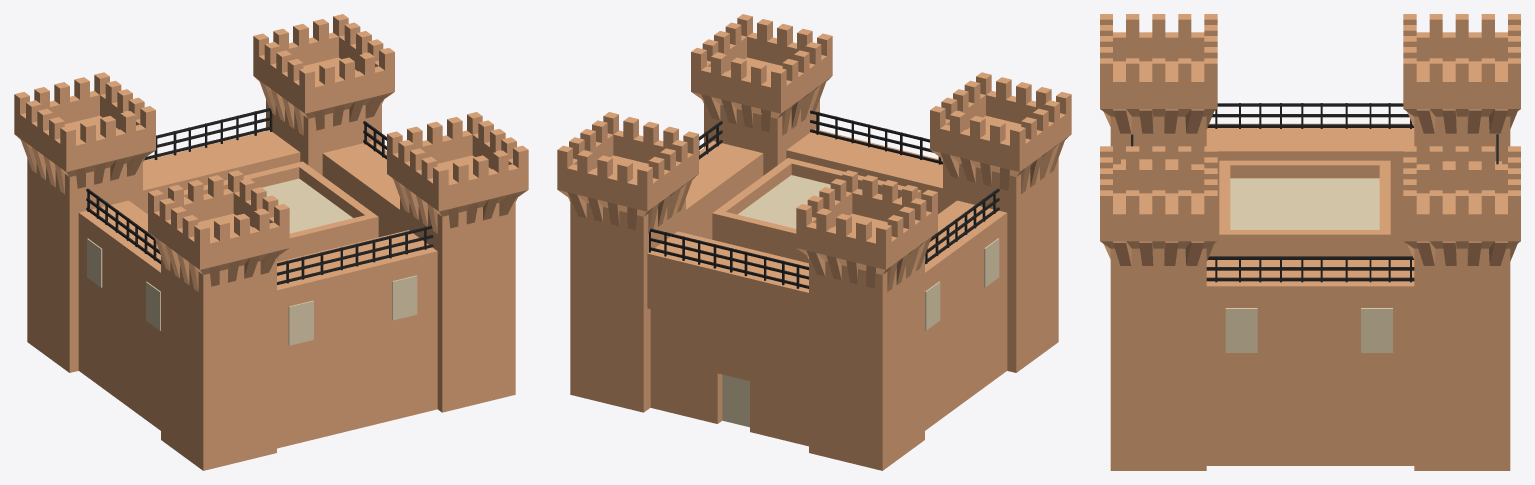
The picture shows the model from 3 angles, left to right: view 1: azimuth 30°, elevation 25°; view 2: azimuth 150°, elevation 25°; view 3: azimuth 270°, elevation 25°; orthographic projection. The views are drawn at different scales.
Visible parts, largest first — view 1: Box112, Box114, Box138, Box113, Box111, Box124, Box133, Box139, Box081, Box135, Box126, Box118 (+4 smaller); view 2: Box113, Box111, Box139, Box112, Box114, Box124, Box133, Box138, Box081, Box118, Box122, Box077 (+2 smaller); view 3: Box081, Box114, Box111, Box133, Box113, Box112, Box124, Box123, Box134, Box110, Box092, Box083 (+3 smaller).
Part boxes in pixels (x1=…): Box112: x1=148, y1=170, x2=289, y2=470; Box114: x1=387, y1=112, x2=528, y2=412; Box138: x1=277, y1=230, x2=437, y2=448; Box113: x1=14, y1=72, x2=155, y2=372; Box111: x1=253, y1=14, x2=394, y2=175; Box124: x1=78, y1=200, x2=160, y2=430; Box133: x1=184, y1=161, x2=378, y2=261; Box139: x1=143, y1=130, x2=300, y2=213; Box081: x1=322, y1=141, x2=399, y2=237; Box135: x1=392, y1=275, x2=417, y2=320; Box126: x1=288, y1=300, x2=313, y2=345; Box118: x1=87, y1=238, x2=102, y2=287; Box113: x1=796, y1=170, x2=937, y2=470; Box111: x1=557, y1=112, x2=698, y2=412; Box139: x1=647, y1=231, x2=808, y2=446; Box112: x1=930, y1=72, x2=1071, y2=372; Box114: x1=691, y1=14, x2=832, y2=175; Box124: x1=925, y1=200, x2=1007, y2=430; Box133: x1=712, y1=158, x2=921, y2=266; Box138: x1=786, y1=129, x2=942, y2=213; Box081: x1=686, y1=141, x2=763, y2=239; Box118: x1=925, y1=281, x2=940, y2=330; Box122: x1=984, y1=238, x2=999, y2=287; Box077: x1=650, y1=228, x2=808, y2=270; Box081: x1=1206, y1=260, x2=1414, y2=465; Box114: x1=1100, y1=146, x2=1217, y2=470; Box111: x1=1403, y1=146, x2=1520, y2=470; Box133: x1=1219, y1=160, x2=1390, y2=256; Box113: x1=1403, y1=14, x2=1520, y2=164; Box112: x1=1100, y1=14, x2=1217, y2=164; Box124: x1=1206, y1=123, x2=1414, y2=256; Box123: x1=1225, y1=308, x2=1257, y2=352; Box134: x1=1361, y1=308, x2=1392, y2=352; Box110: x1=1206, y1=277, x2=1414, y2=281; Box092: x1=1206, y1=267, x2=1414, y2=270; Box083: x1=1207, y1=124, x2=1413, y2=127.
Size of the model in its own units: 527392 by 377585 by 515318.
